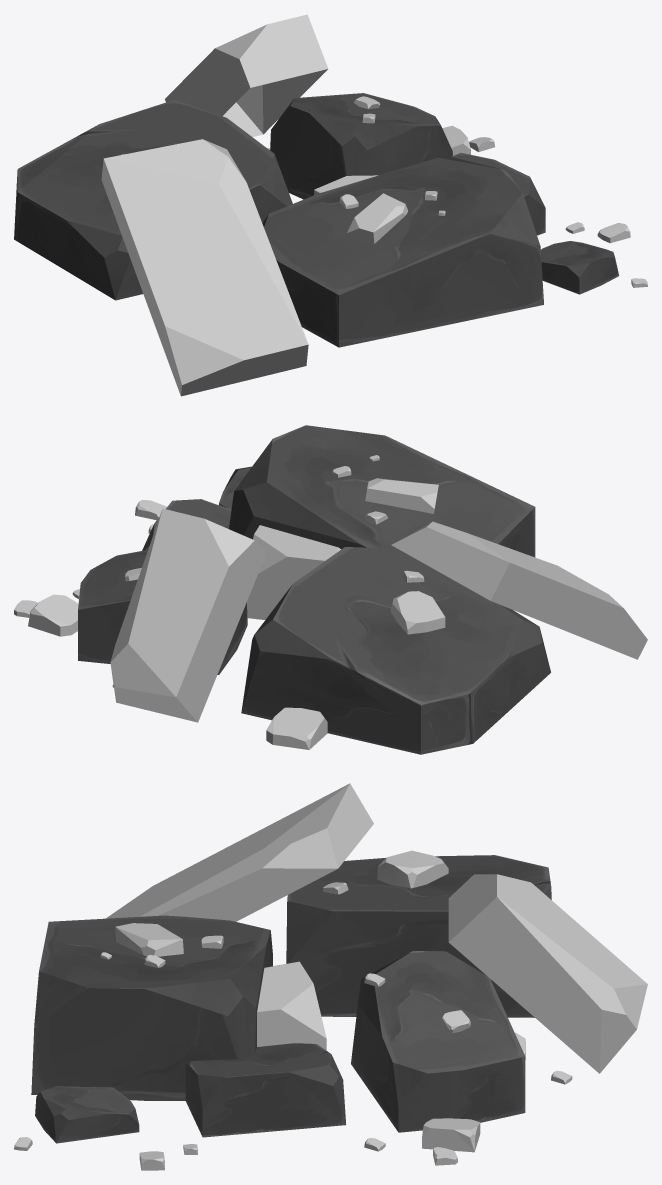
Rendered from SM_ModularKit_RubbleBig.fbx.
3 renders of one model, top to bottom at view 1: azimuth 30°, elevation 25°; view 2: azimuth 150°, elevation 25°; view 3: azimuth 270°, elevation 25°, orthographic. The views are drawn at different scales.
Visible parts, largest first — view 1: RubbleBig; view 2: RubbleBig; view 3: RubbleBig.
Boxes of the visible parts, x1,y1,x2,y2 form: RubbleBig: [14, 14, 647, 396]; RubbleBig: [14, 425, 647, 754]; RubbleBig: [14, 783, 647, 1170].
Bounding box in the file's own units: 239 × 94.71 × 243.
